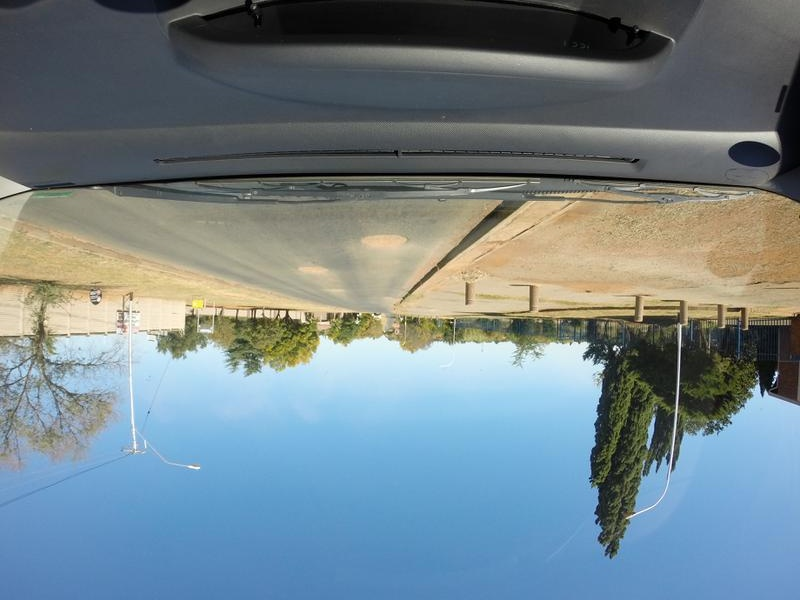pothole: (326, 218, 415, 256), (287, 261, 327, 280)
